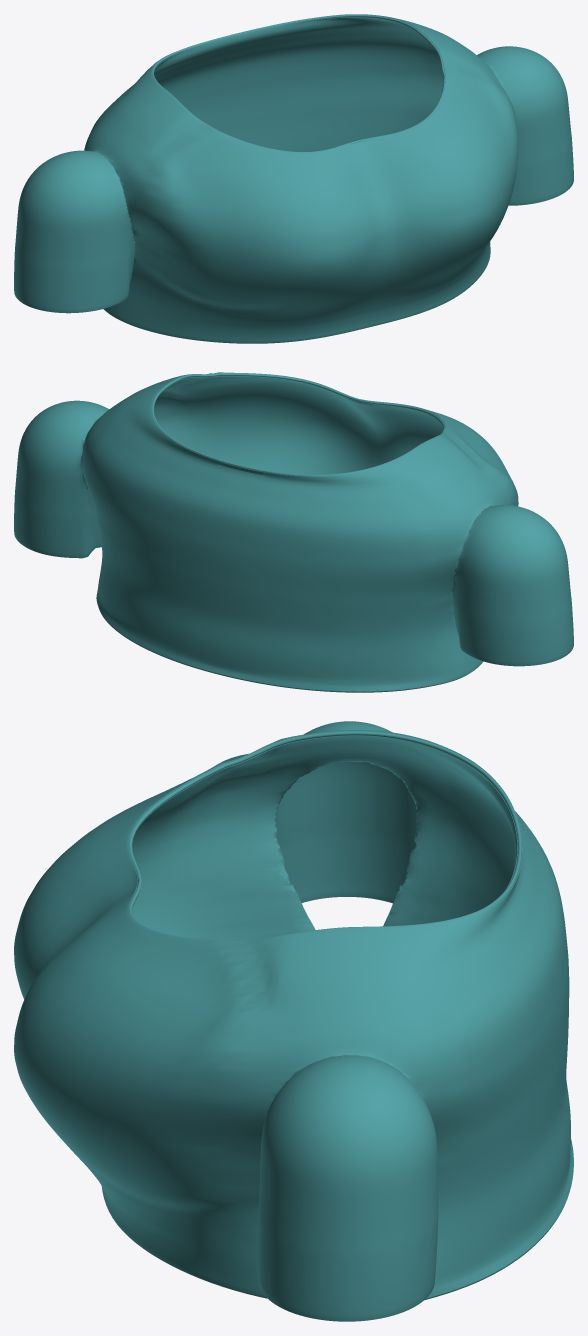
The model's file is Feminine-tshirt-top.glb.
3 views of the same model, one above another, from view 1: azimuth 30°, elevation 25°; view 2: azimuth 150°, elevation 25°; view 3: azimuth 270°, elevation 25° (orthographic). The views are drawn at different scales.
Visible parts, largest first — view 1: Clothing / continuous T-shirt181, Neckline / seated181 export; view 2: Clothing / continuous T-shirt181, Neckline / seated181 export, Shirt / seated hem export; view 3: Clothing / continuous T-shirt181, Neckline / seated181 export.
Boxes of the visible parts, left/top/right/bottom form: Clothing / continuous T-shirt181: left=14, top=14, right=573, bottom=343; Neckline / seated181 export: left=152, top=14, right=445, bottom=152; Clothing / continuous T-shirt181: left=14, top=372, right=573, bottom=691; Neckline / seated181 export: left=152, top=373, right=445, bottom=475; Shirt / seated hem export: left=99, top=609, right=483, bottom=692; Clothing / continuous T-shirt181: left=14, top=721, right=573, bottom=1321; Neckline / seated181 export: left=129, top=731, right=521, bottom=940.
Bounding box in the file's own units: 0.923 × 0.3394 × 0.5114.
